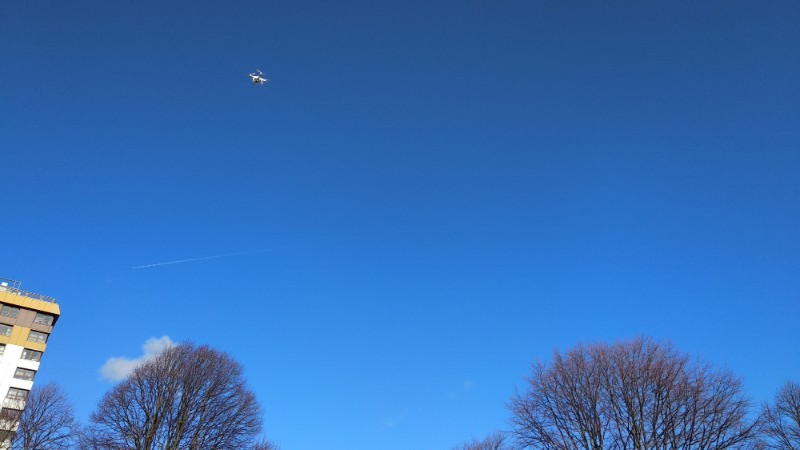drone: (245, 67, 271, 88)
